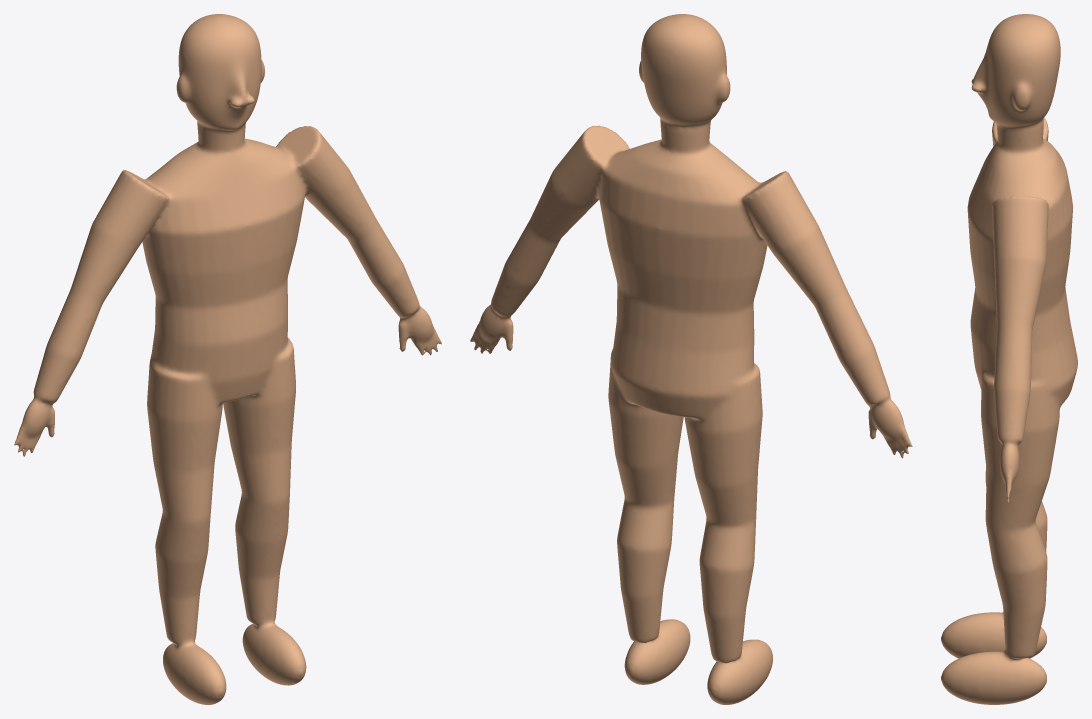
File: NPC2_BaseMale_APose.fbx
The picture shows the model from 3 angles, left to right: view 1: azimuth 30°, elevation 25°; view 2: azimuth 150°, elevation 25°; view 3: azimuth 270°, elevation 25°; orthographic projection. The views are drawn at different scales.
Visible parts, largest first — view 1: NPC2_BaseMale_APose_Skin; view 2: NPC2_BaseMale_APose_Skin; view 3: NPC2_BaseMale_APose_Skin.
Boxes of the visible parts, x1,y1,x2,y2 form: NPC2_BaseMale_APose_Skin: [14, 14, 441, 704]; NPC2_BaseMale_APose_Skin: [470, 14, 912, 704]; NPC2_BaseMale_APose_Skin: [941, 14, 1077, 704].
Bounding box in the file's own units: 1.24 × 1.83 × 0.341.
